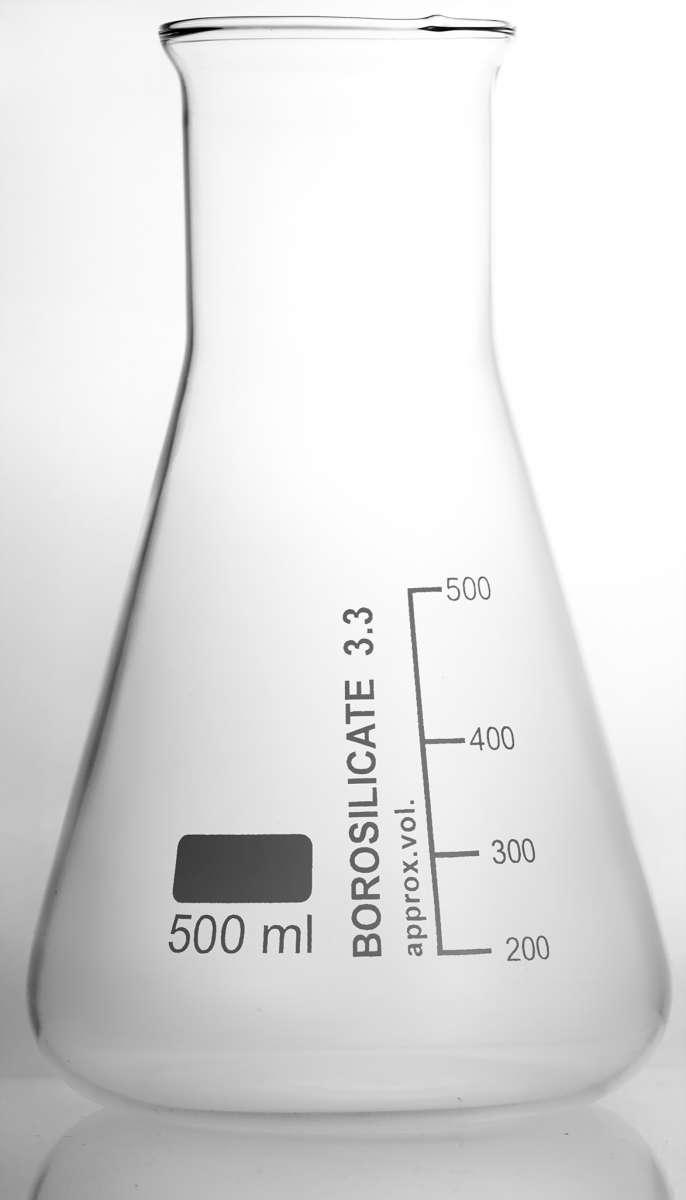Titrarion: (19, 9, 674, 1135)
